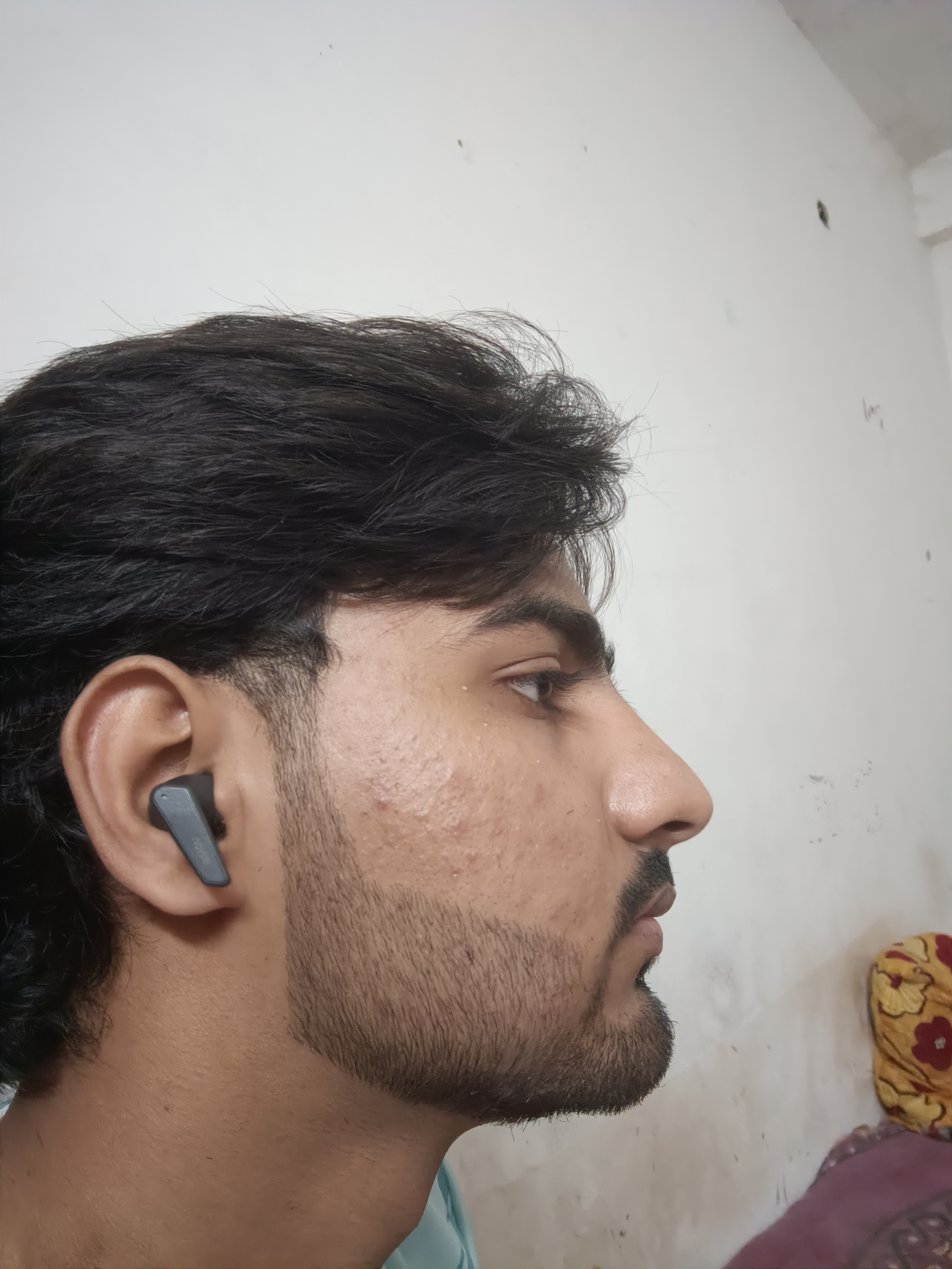macrocomedone: (445, 767, 457, 781), (450, 819, 463, 830), (417, 810, 431, 820)
papule: (376, 795, 388, 805)
